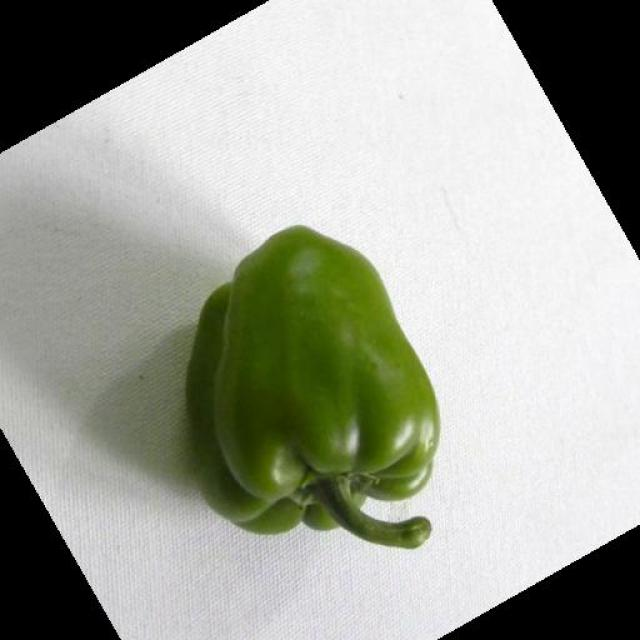Fresh_Capsicum: (186, 219, 464, 562)
